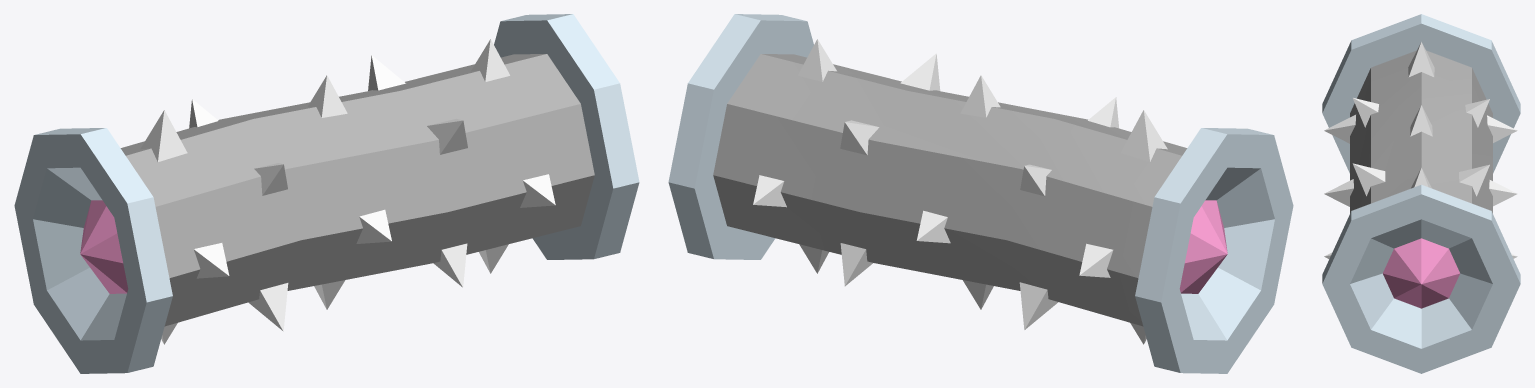
The model's file is Roller_With_Thorns.fbx.
3 renders of one model, left to right at view 1: azimuth 30°, elevation 25°; view 2: azimuth 150°, elevation 25°; view 3: azimuth 270°, elevation 25°, orthographic. The views are drawn at different scales.
Parts seen in each view (by area): view 1: Roller_With_Thorns; view 2: Roller_With_Thorns; view 3: Roller_With_Thorns.
Part boxes in pixels (x1=…): Roller_With_Thorns: x1=14, y1=14, x2=639, y2=373; Roller_With_Thorns: x1=668, y1=14, x2=1293, y2=373; Roller_With_Thorns: x1=1322, y1=14, x2=1520, y2=373.
Bounding box in the file's own units: 211 × 99.51 × 97.76.
